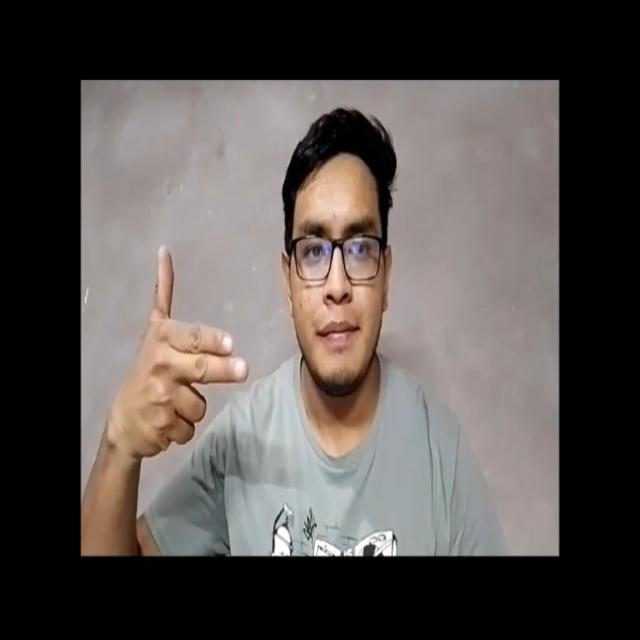H: (102, 230, 255, 472)
